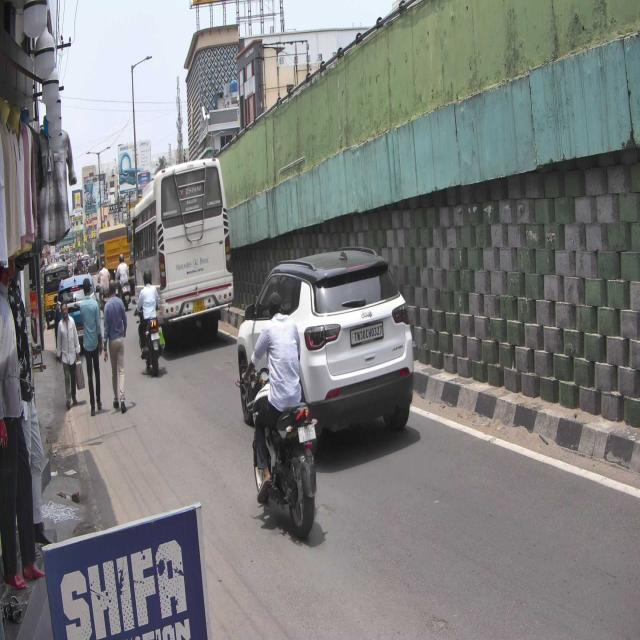single_rider: (242, 291, 316, 536)
